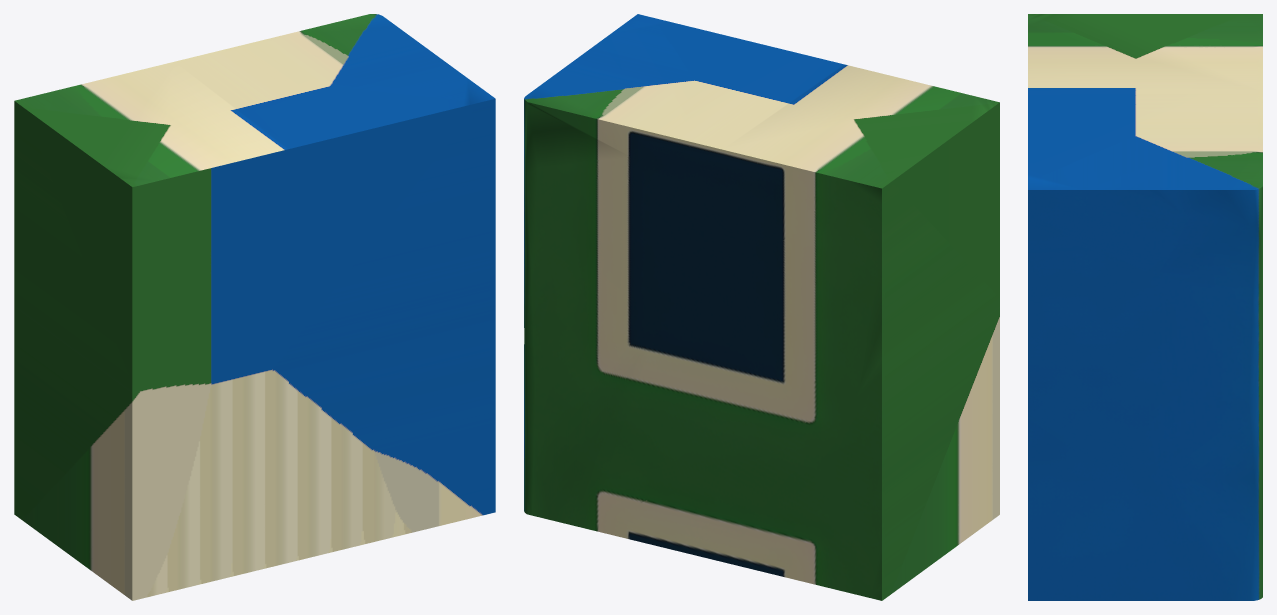
Rendered from 8-upper-walls-back-right.fbx.
The picture shows the model from 3 angles, left to right: view 1: azimuth 30°, elevation 25°; view 2: azimuth 150°, elevation 25°; view 3: azimuth 270°, elevation 25°; orthographic projection.
Parts seen in each view (by area): view 1: upper-walls-back-right; view 2: upper-walls-back-right; view 3: upper-walls-back-right.
Part boxes in pixels (<box>): upper-walls-back-right: <box>14,14,495,600</box>; upper-walls-back-right: <box>524,14,999,600</box>; upper-walls-back-right: <box>1028,14,1262,600</box>.
Size of the model in its own units: 5287 by 5754 by 2980.
1 material, 1 textured.
